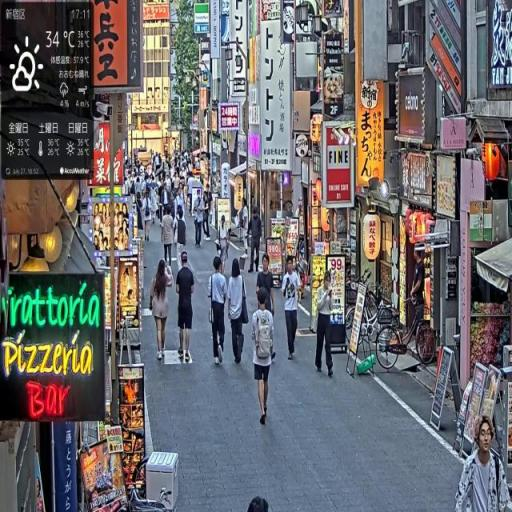person: (455, 413, 512, 512), (252, 290, 279, 426), (150, 259, 175, 365), (226, 258, 250, 367), (175, 252, 197, 365), (314, 272, 336, 381), (208, 256, 229, 368), (284, 256, 303, 364), (249, 208, 264, 277), (163, 209, 176, 271)
